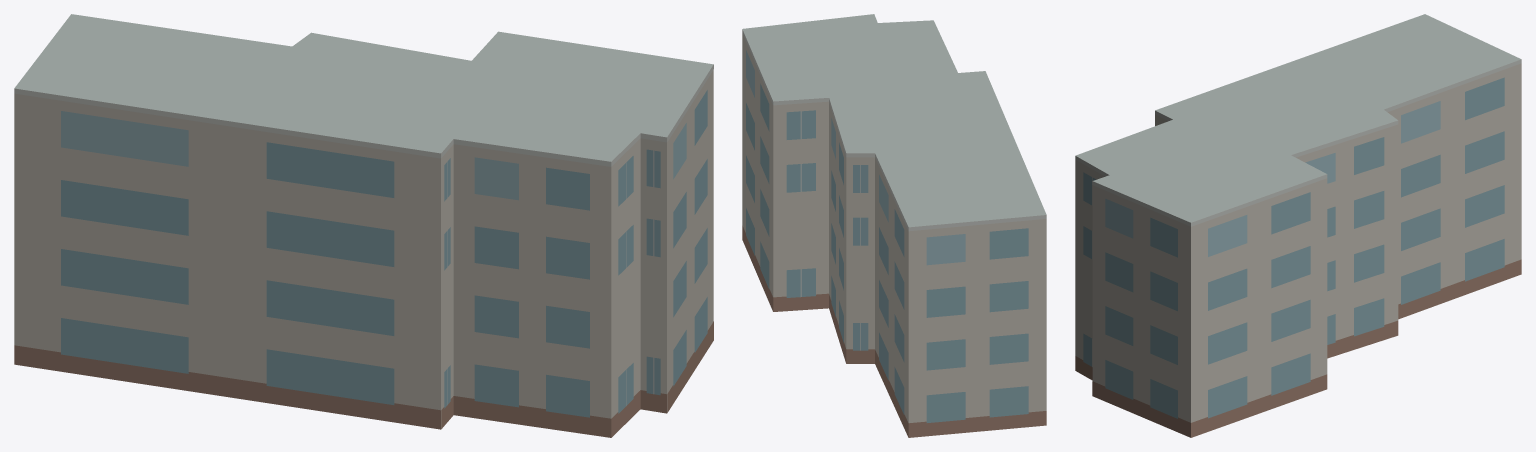
Rendered from survey-upis-32689101.glb.
3 renders of one model, left to right at view 1: azimuth 30°, elevation 25°; view 2: azimuth 150°, elevation 25°; view 3: azimuth 270°, elevation 25°, orthographic. The views are drawn at different scales.
Visible parts, largest first — view 1: survey-upis-32689101.tmp; view 2: survey-upis-32689101.tmp; view 3: survey-upis-32689101.tmp.
Boxes of the visible parts, box(x1,y1,x2,y2) form: survey-upis-32689101.tmp: box(14, 14, 713, 437); survey-upis-32689101.tmp: box(742, 14, 1046, 437); survey-upis-32689101.tmp: box(1075, 14, 1521, 437).
Bounding box in the file's own units: 27.5 × 13.2 × 24.83.
